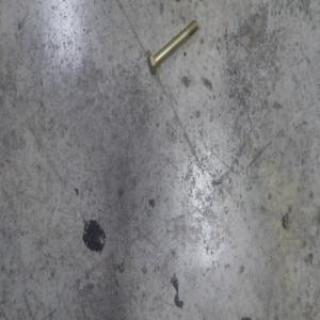Bolttrack_idkeyframe: (146, 17, 199, 74)
